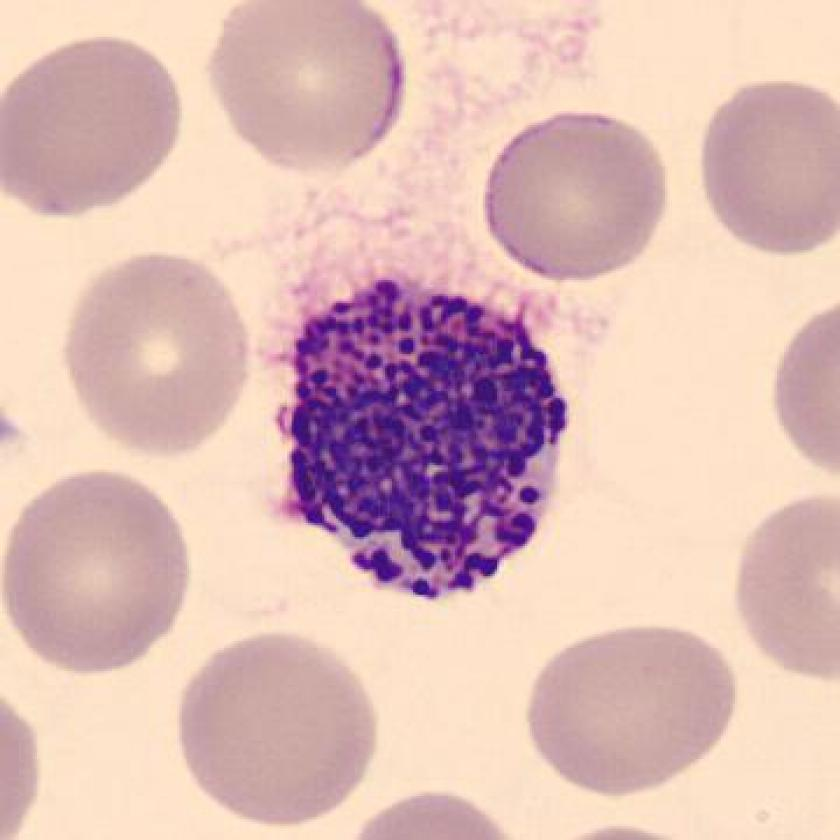basophil: (276, 272, 580, 612)
